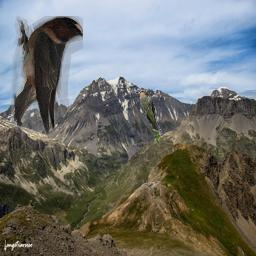Cuckoo: (135, 90, 164, 144)
Swallow: (11, 16, 83, 135)
